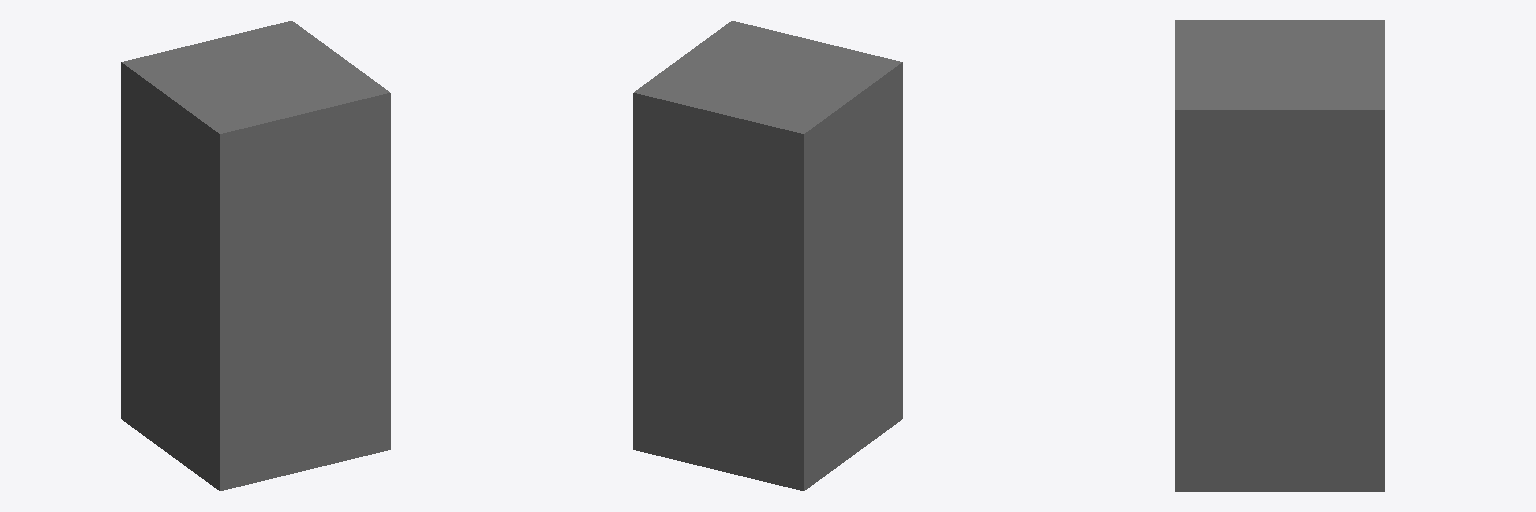
URDF robot description (box):
<?xml version="1.0"?>
<robot name="box">
  <material name="wallmat">
    <color rgba="0.5 0.5 0.5 1"/>
  </material>

  <link name="wall_link">
    <inertial>
      <origin rpy="0 0 0" xyz="0 0 0"/>
      <mass value="0"/>
      <inertia ixx="0" ixy="0" ixz="0" iyy="0" iyz="0" izz="0"/>
    </inertial>
    <visual>
      <origin rpy="0 0 0" xyz="0.00 0.00 2.00"/>
      <geometry>
        <box size="2.0 2.0 4.0"/>
      </geometry>
      <material name="wallmat"/>
    </visual>
    <collision>
      <origin rpy="0 0 0" xyz="0.00 0.00 2.00"/>
      <geometry>
        <box size="2.0 2.0 4.0"/>
      </geometry>
    </collision>
  </link>

</robot>

--- Render facts (derived) ---
3 views of the same robot in one strip: view 1: azimuth 30°, elevation 25°; view 2: azimuth 150°, elevation 25°; view 3: azimuth 270°, elevation 25° (orthographic).
Robot: box — 1 links, 0 joints (none); root link wall_link; default pose: all joints at 0.
Links seen in each view (by area): view 1: wall_link; view 2: wall_link; view 3: wall_link.
Link boxes in pixels (x1=…): wall_link: x1=121, y1=21, x2=390, y2=490; wall_link: x1=633, y1=21, x2=902, y2=490; wall_link: x1=1175, y1=20, x2=1384, y2=491.
Size in the robot's own frame: 2 by 2 by 4 metres.
Geometry: primitives only (box / cylinder / sphere), no mesh files.